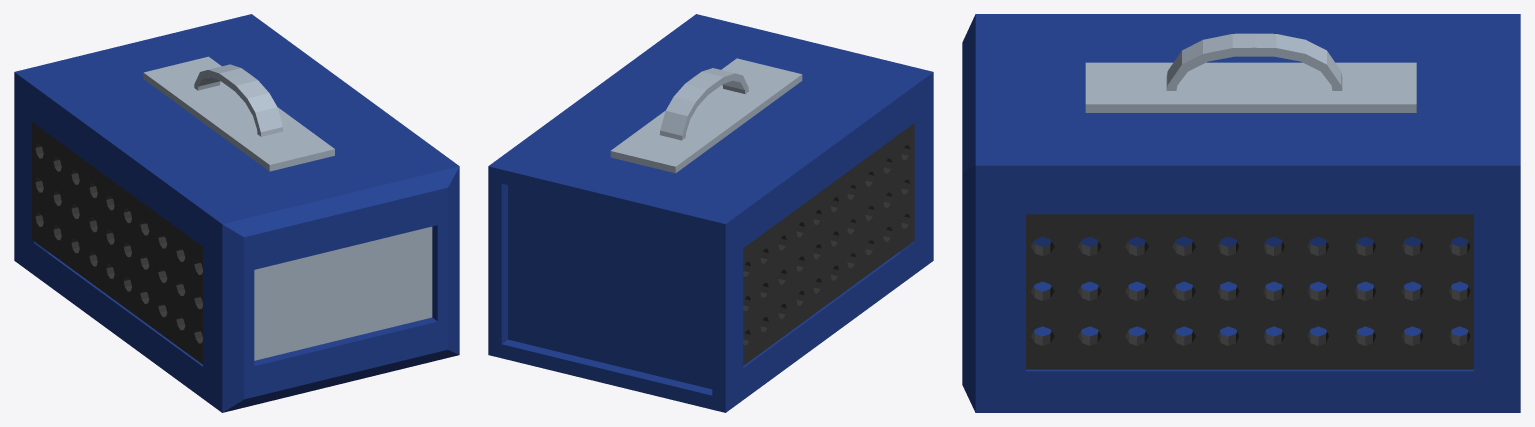
File: SM_generator_box.fbx
3 renders of one model, left to right at view 1: azimuth 30°, elevation 25°; view 2: azimuth 150°, elevation 25°; view 3: azimuth 270°, elevation 25°, orthographic. The views are drawn at different scales.
Parts seen in each view (by area): view 1: generator_box; view 2: generator_box; view 3: generator_box.
Part boxes in pixels (x1,y1,x2,y2): generator_box: (14,14,459,412); generator_box: (488,14,933,412); generator_box: (962,14,1520,412).
Size of the model in its own units: 55.51 by 51.01 by 86.28.
